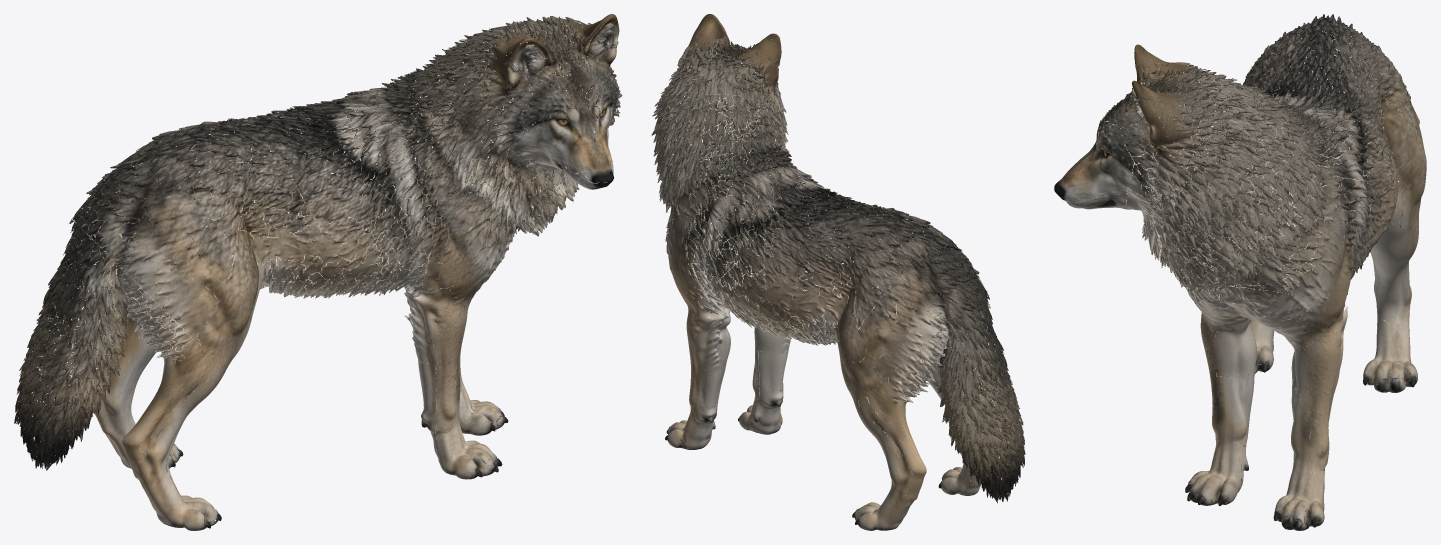
Rendered from wild_life_gray_wolf_optimized.glb.
3 renders of one model, left to right at view 1: azimuth 30°, elevation 25°; view 2: azimuth 150°, elevation 25°; view 3: azimuth 270°, elevation 25°, orthographic. The views are drawn at different scales.
Bounding box in the file's own units: 1.9 × 1.62 × 1.17.
Materials: 1 (1 with a texture image).
